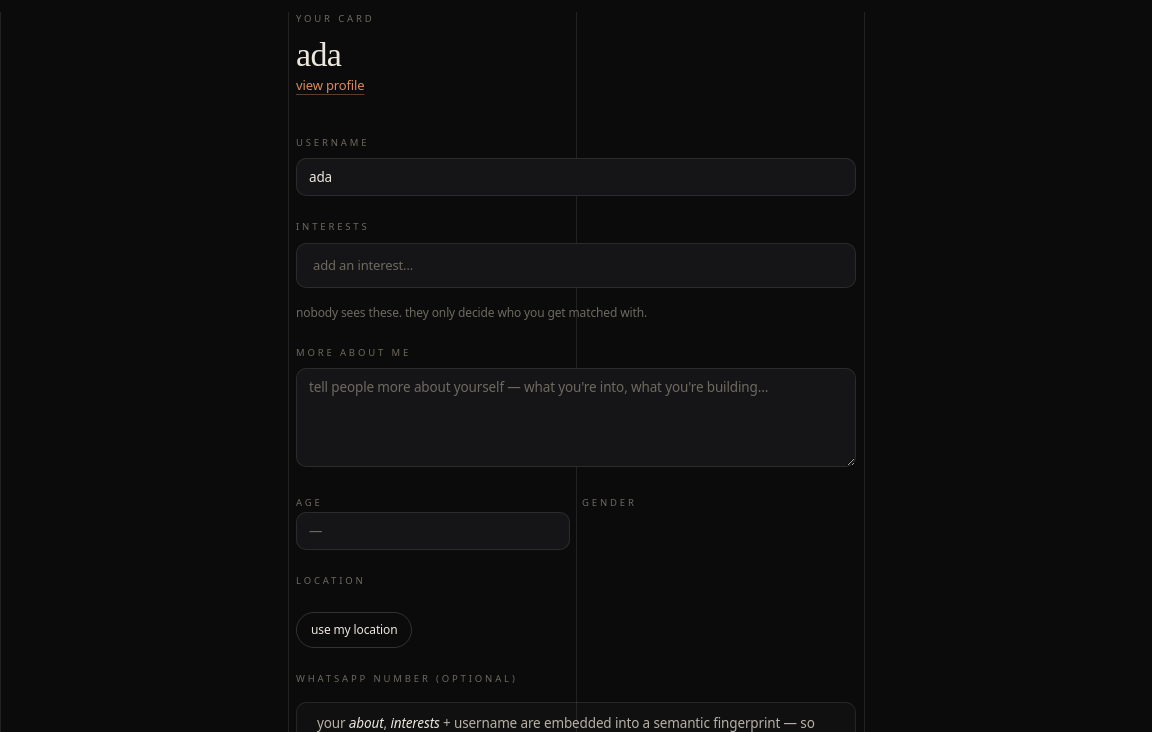
Test: profile autosave › saves typed text once the typing stops, and not before
Replace the text in the field labelled "username" with "ada2" at point(576, 177), box [296,158,856,196]
Wait 2161 ms
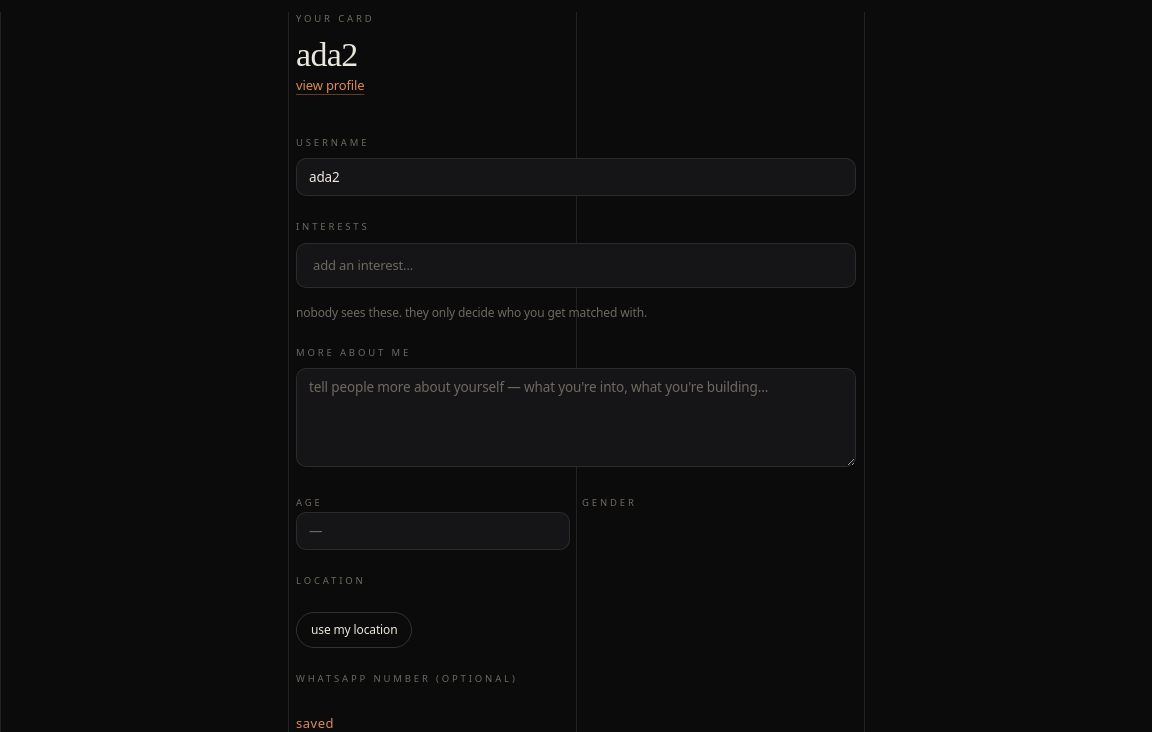
Result: the text "ada2" is shown at [296,36,358,73]
